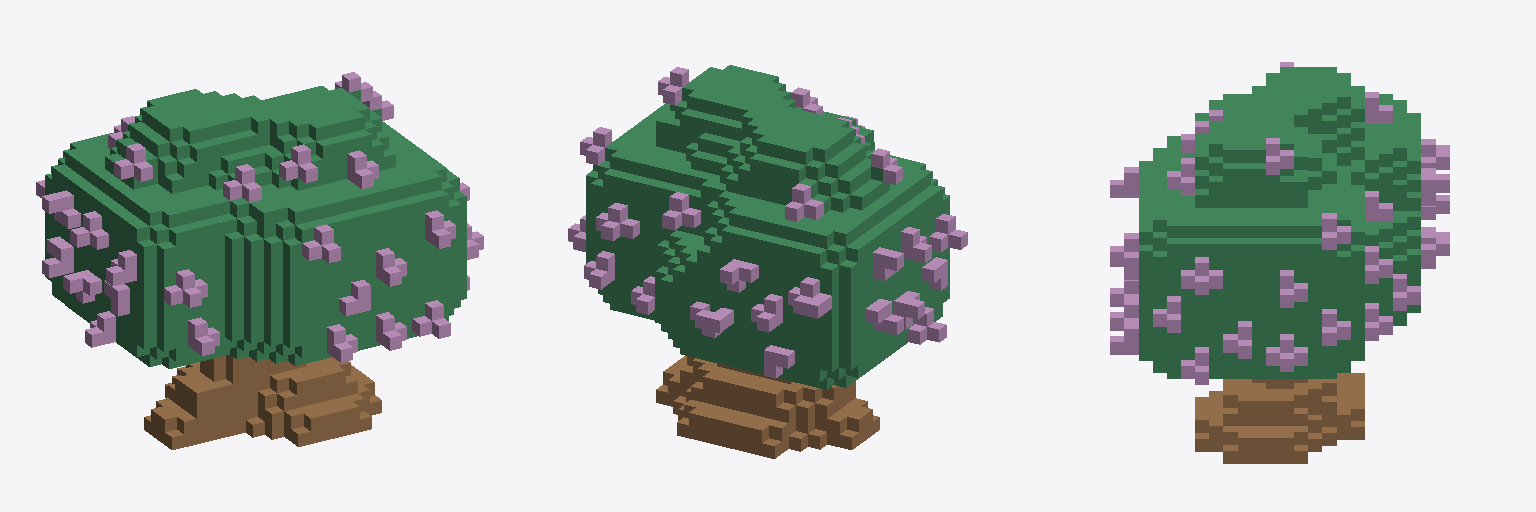
The picture shows the model from 3 angles: view 1: azimuth 30°, elevation 25°; view 2: azimuth 150°, elevation 25°; view 3: azimuth 270°, elevation 25°; orthographic projection.
Parts seen in each view (by area): view 1: Model; view 2: Model; view 3: Model.
Part boxes in pixels (x1,y1,x2,y2): Model: (36, 72, 483, 449); Model: (568, 65, 967, 458); Model: (1110, 62, 1449, 463).
Bounding box in the file's own units: 28 × 25 × 24.
1 materials, 1 textured.